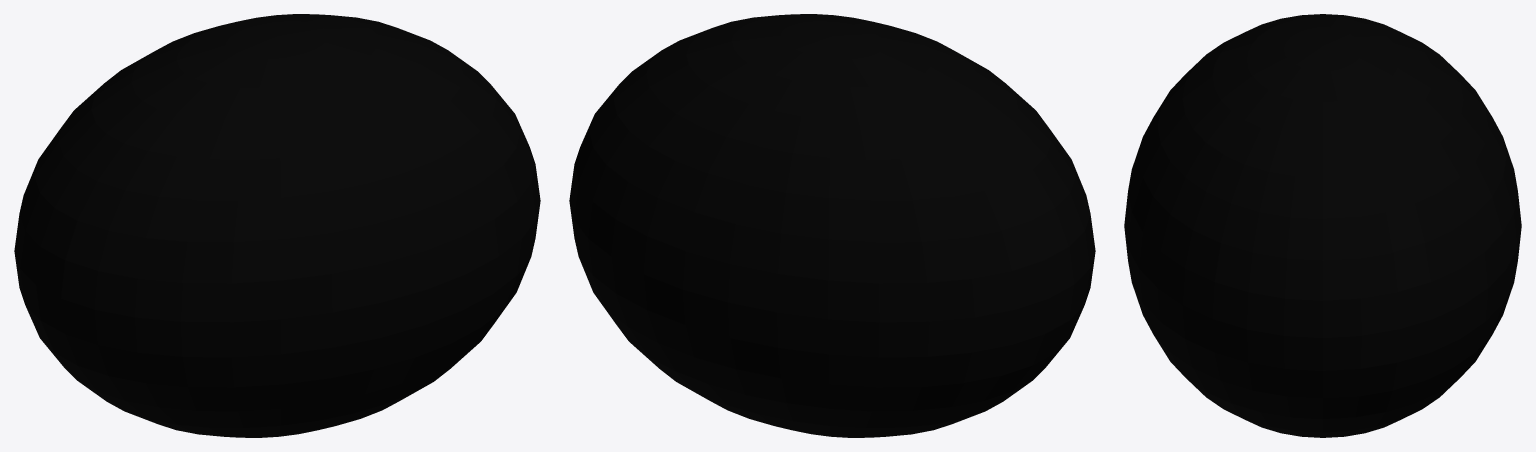
The model's file is cockpit.obj.
The picture shows the model from 3 angles, left to right: view 1: azimuth 30°, elevation 25°; view 2: azimuth 150°, elevation 25°; view 3: azimuth 270°, elevation 25°; orthographic projection. The views are drawn at different scales.
Parts seen in each view (by area): view 1: 球體; view 2: 球體; view 3: 球體.
Part boxes in pixels (x1,y1,x2,y2): 球體: [14, 14, 540, 437]; 球體: [569, 14, 1095, 437]; 球體: [1124, 14, 1521, 437].
Bounding box in the file's own units: 2.4 × 1.8 × 1.8.
Materials: 1 (1 with a texture image).
